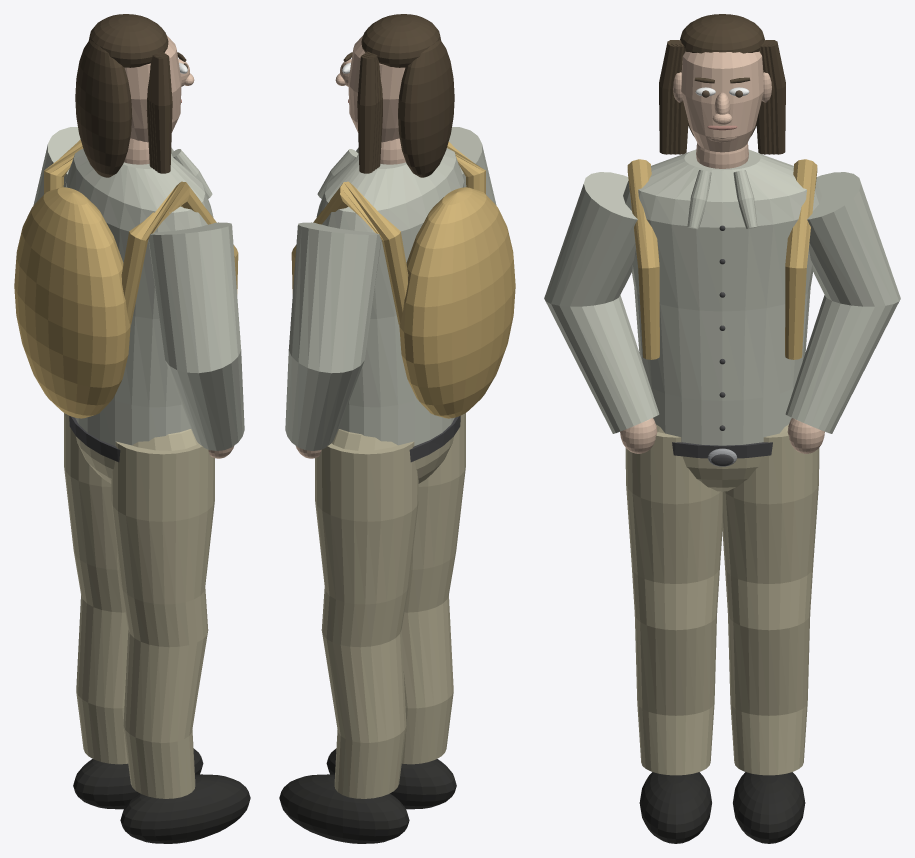
The model's file is person.glb.
The picture shows the model from 3 angles, left to right: view 1: azimuth 30°, elevation 25°; view 2: azimuth 150°, elevation 25°; view 3: azimuth 270°, elevation 25°; orthographic projection.
Size of the model in its own units: 0.4412 by 1.8 by 0.7314.
